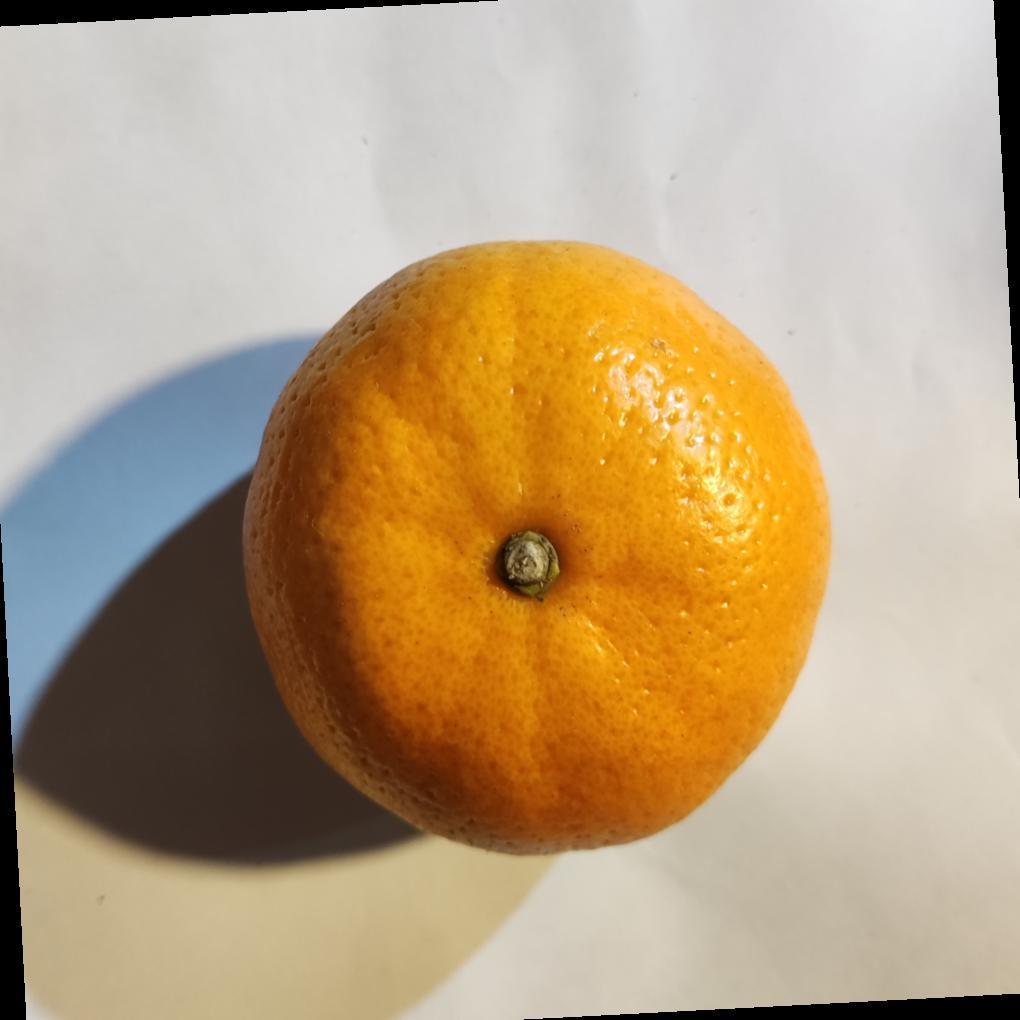FreshGuava: (239, 239, 834, 862)
